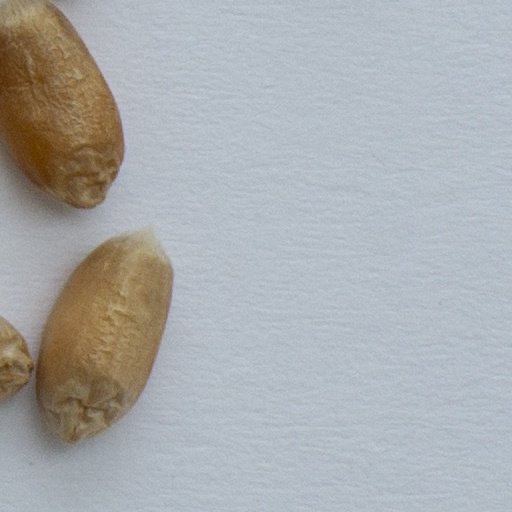Wheat-grain-poly: (35, 227, 176, 447), (0, 0, 124, 212), (0, 316, 34, 404)
